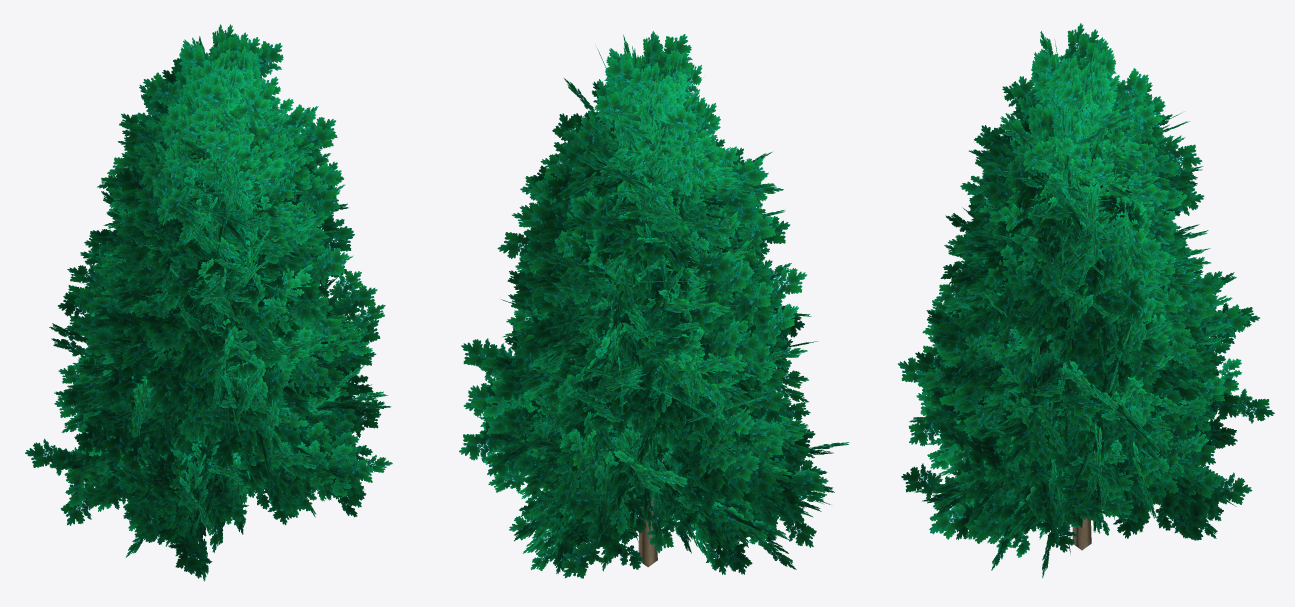
Rendered from tree_LOD2.gltf.
3 views of the same model, side by side, from view 1: azimuth 30°, elevation 25°; view 2: azimuth 150°, elevation 25°; view 3: azimuth 270°, elevation 25° (orthographic). The views are drawn at different scales.
Visible parts, largest first — view 1: Leaves_LOD2; view 2: Leaves_LOD2, Branches_LOD2; view 3: Leaves_LOD2.
Part boxes in pixels (x1=…): Leaves_LOD2: x1=25, y1=24, x2=392, y2=581; Leaves_LOD2: x1=459, y1=31, x2=849, y2=578; Branches_LOD2: x1=638, y1=453, x2=665, y2=567; Leaves_LOD2: x1=898, y1=23, x2=1274, y2=578.
Bounding box in the file's own units: 45.42 × 67.24 × 45.28.
2 materials, 2 textured.
